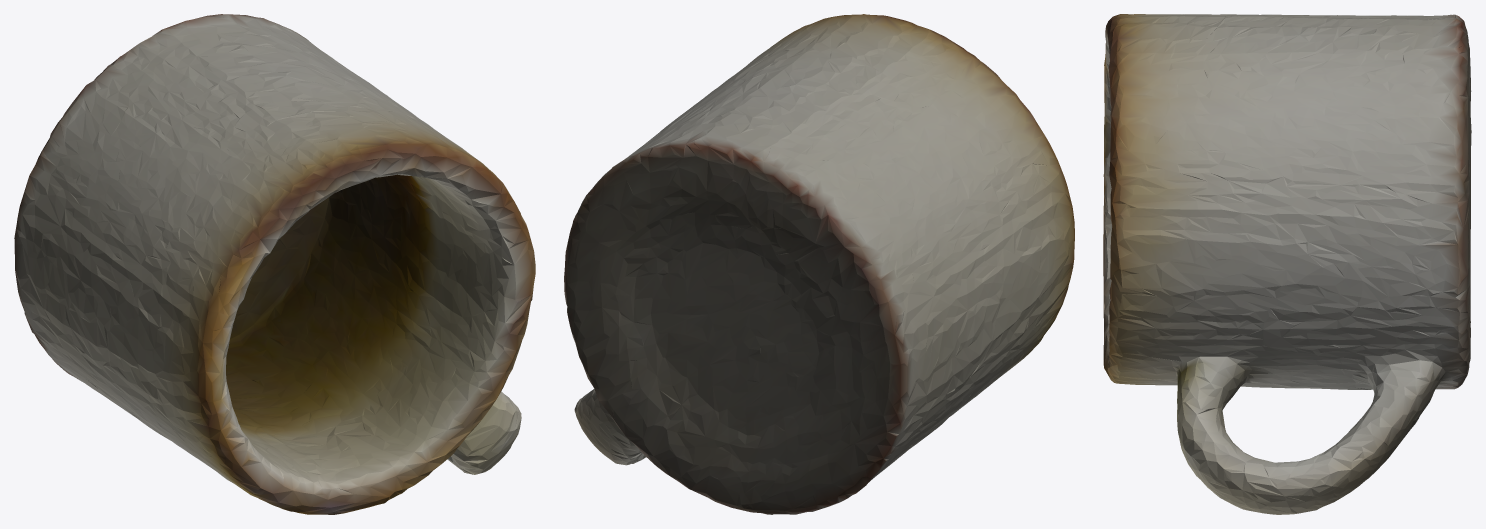
Rendered from mug_1.glb.
3 views of the same model, side by side, from view 1: azimuth 30°, elevation 25°; view 2: azimuth 150°, elevation 25°; view 3: azimuth 270°, elevation 25° (orthographic). The views are drawn at different scales.
Parts seen in each view (by area): view 1: geometry_0; view 2: geometry_0; view 3: geometry_0.
Part boxes in pixels (x1,y1,x2,y2): geometry_0: [14, 14, 535, 514]; geometry_0: [564, 14, 1074, 514]; geometry_0: [1103, 14, 1471, 514].
Size of the model in its own units: 1 by 0.9991 by 0.8326.
